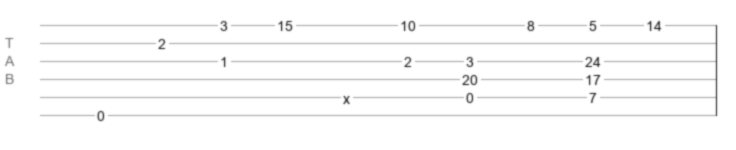0: (97, 108, 105, 118), (466, 90, 474, 100)
1: (220, 54, 228, 64)
10: (400, 18, 416, 28)
14: (646, 18, 662, 28)
15: (277, 18, 293, 28)
17: (585, 72, 601, 82)
2: (158, 36, 166, 46), (404, 54, 412, 64)
20: (462, 72, 478, 82)
24: (585, 54, 601, 64)
3: (220, 18, 228, 28), (466, 54, 474, 64)
5: (589, 18, 597, 28)
7: (589, 90, 597, 100)
8: (527, 18, 535, 28)
x: (343, 91, 350, 99)
